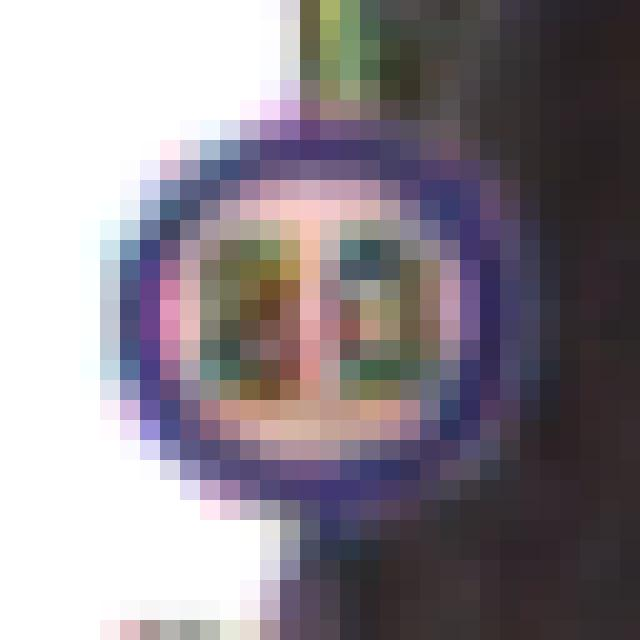SPEED-LIMIT-80: (109, 121, 518, 519)
